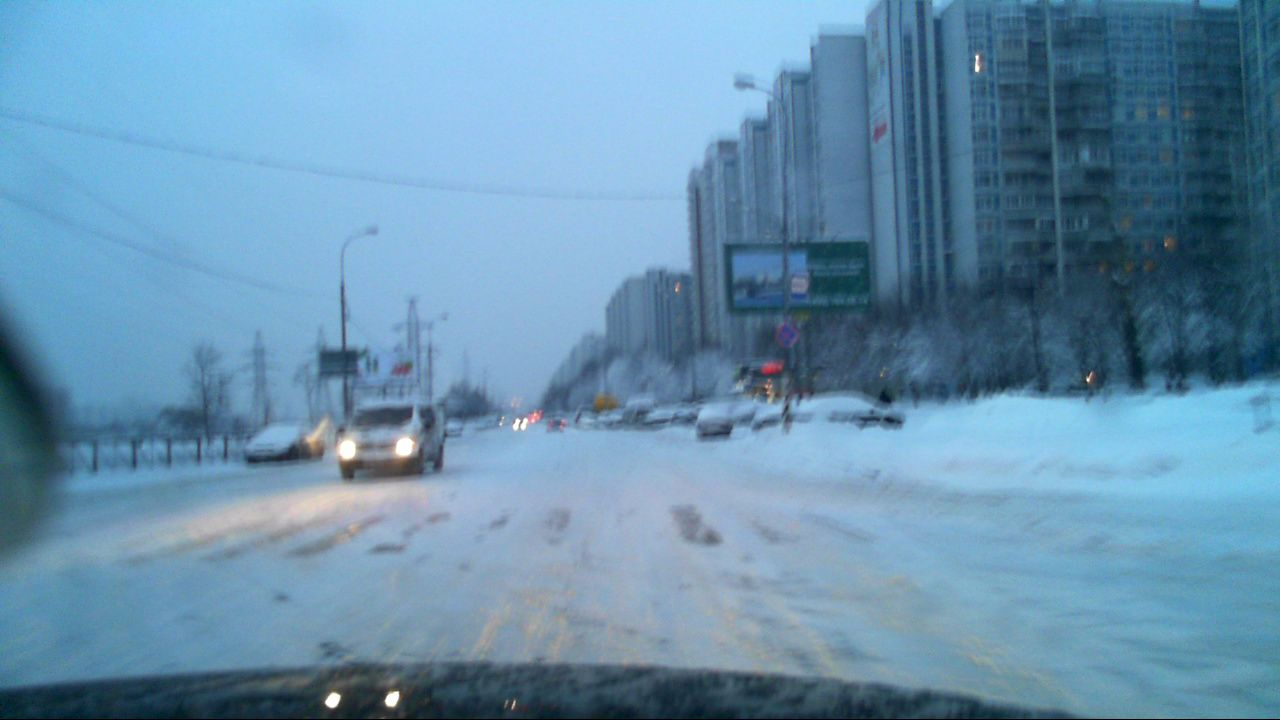No Parking: (773, 319, 802, 348)
